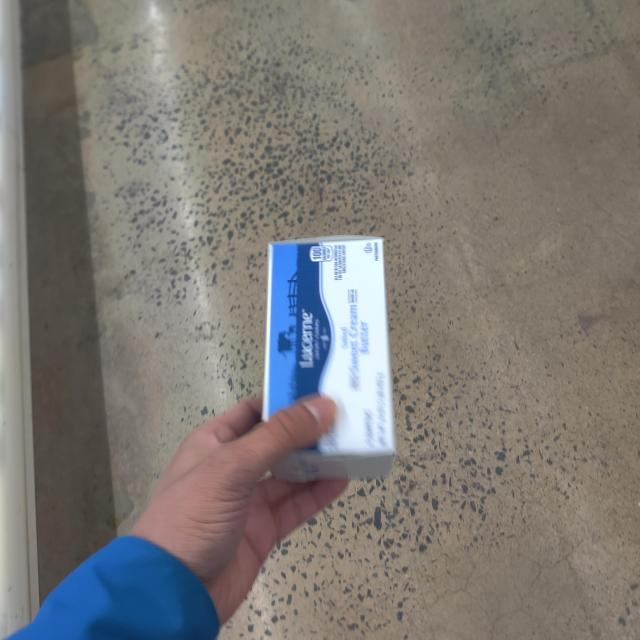Butter: (263, 232, 395, 476)
